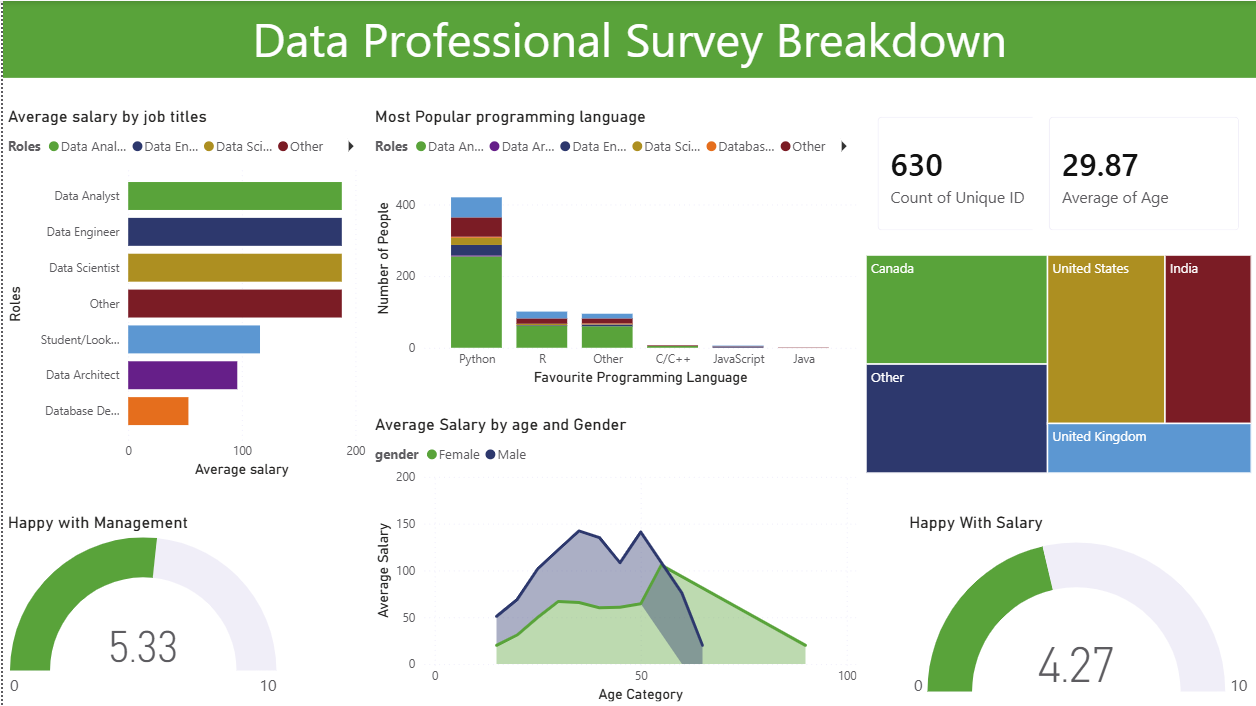

The dashboard page shown, as its layout file describes it:
{"tool":"powerbi","page":{"name":"Page 1","canvas":[1280,720],"ordinal":0},"visuals":[{"type":"barChart","title":"Average salary by job titles","fields":{"Category":["Average Salary.Q1 - Which Title Best Fits your Current Role?.1"],"Y":["Max(Average Salary.Average salary)"],"Series":["Average Salary.Q1 - Which Title Best Fits your Current Role?.1"]},"box":[0,106.7,375,383.3],"z":0},{"type":"textbox","box":[0,0,1279.5,78.8],"z":1000},{"type":"columnChart","title":"Most Popular programming language","fields":{"Y":["Count(Average Salary.Unique ID)"],"Category":["Average Salary.Q5 - Favorite Programming Language.1"],"Series":["Average Salary.Q1 - Which Title Best Fits your Current Role?.1"]},"box":[375,106.7,501.7,290],"z":2000},{"type":"treemap","title":"Countries","fields":{"Group":["Average Salary.Q11 - Which Country do you live in?.1"],"Values":["Max(Average Salary.Average salary)"]},"box":[876.7,233.3,403.3,253.3],"z":3000},{"type":"cardVisual","fields":{"Data":["Count(Average Salary.Unique ID)"]},"box":[876.7,101.7,201.7,150],"z":4000},{"type":"cardVisual","fields":{"Data":["Avg(Average Salary.Q10 - Current Age)"]},"box":[1050.7,101.4,228.3,150.4],"z":5000},{"type":"stackedAreaChart","title":"Average Salary by age and Gender","fields":{"Category":["Average Salary.Q10 - Current Age (bins)"],"Y":["Avg(Average Salary.Average salary)"],"Series":["Average Salary.Q9 - Male/Female?"]},"box":[375,421.7,501.7,298.3],"z":6000},{"type":"gauge","title":"Happy With Salary","fields":{"Y":["Avg(Average Salary.Q6 - How Happy are you in your Current Position with the following? (Salary))"],"MinValue":["Min(Average Salary.Q6 - How Happy are you in your Current Position with the following? (Salary))"],"MaxValue":["Max(Average Salary.Q6 - How Happy are you in your Current Position with the following? (Salary))"]},"box":[920,521.7,360,198.3],"z":7000},{"type":"gauge","title":"Happy with Management","fields":{"Y":["Avg(Average Salary.Q6 - How Happy are you in your Current Position with the following? (Management))"],"MinValue":["Min(Average Salary.Q6 - How Happy are you in your Current Position with the following? (Management))"],"MaxValue":["Max(Average Salary.Q6 - How Happy are you in your Current Position with the following? (Management))"]},"box":[0,521.7,286.7,198.3],"z":8000}]}

Visuals, with their boxes in screenshot pixels (x1, y1, x2, y2), scaled from the page's 1280x720 canvas onto the 1256x706 screenshot:
"Average salary by job titles" barChart: {"x1": 0, "y1": 105, "x2": 368, "y2": 480}
textbox: {"x1": 0, "y1": 0, "x2": 1255, "y2": 77}
"Most Popular programming language" columnChart: {"x1": 368, "y1": 105, "x2": 860, "y2": 389}
"Countries" treemap: {"x1": 860, "y1": 229, "x2": 1255, "y2": 477}
cardVisual - Count(Average Salary.Unique ID): {"x1": 860, "y1": 100, "x2": 1058, "y2": 247}
cardVisual - Avg(Average Salary.Q10 - Current Age): {"x1": 1031, "y1": 99, "x2": 1255, "y2": 247}
"Average Salary by age and Gender" stackedAreaChart: {"x1": 368, "y1": 414, "x2": 860, "y2": 705}
"Happy With Salary" gauge: {"x1": 903, "y1": 512, "x2": 1255, "y2": 705}
"Happy with Management" gauge: {"x1": 0, "y1": 512, "x2": 281, "y2": 705}
